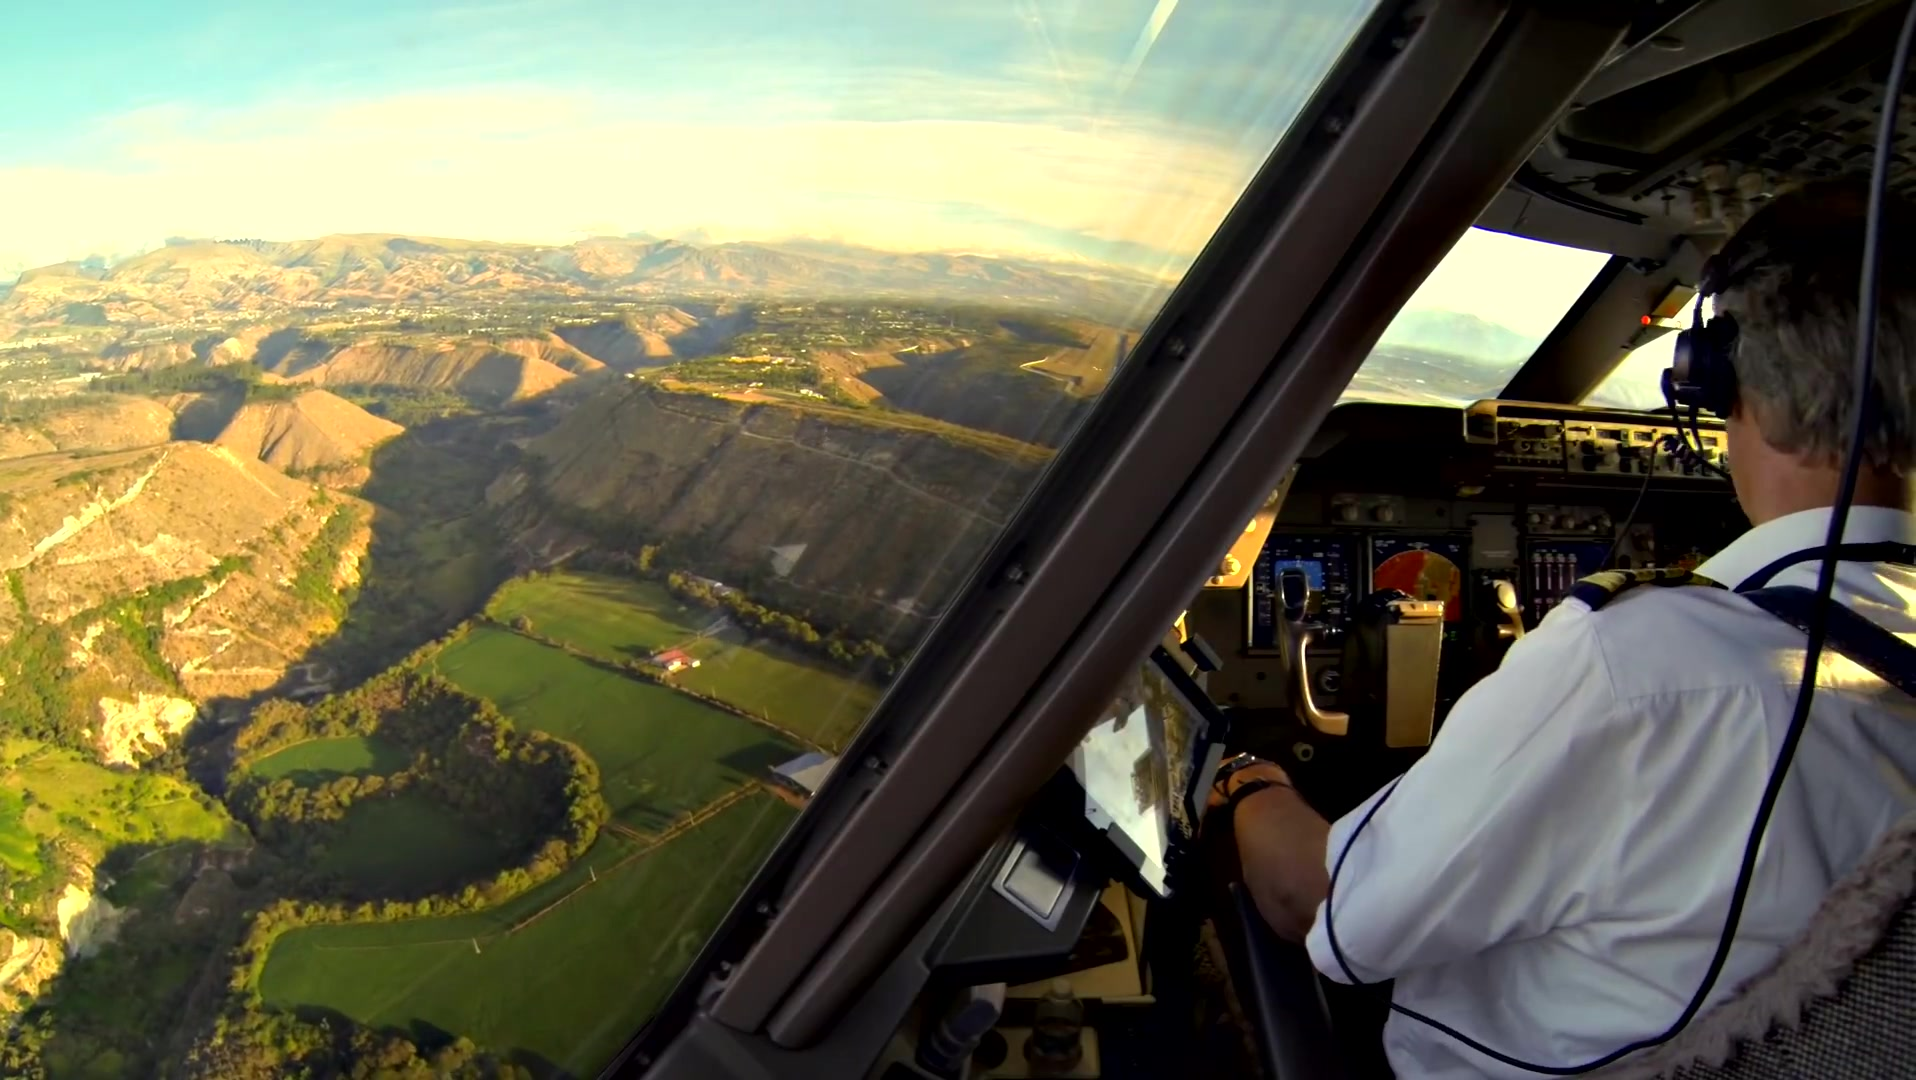runway: (1104, 331, 1134, 388)
